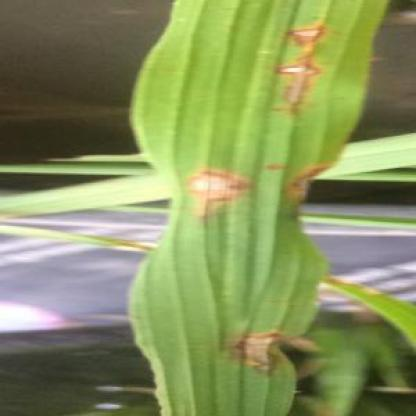Rice blast: (277, 9, 331, 115), (230, 330, 291, 380), (182, 171, 254, 211), (279, 165, 336, 213)
